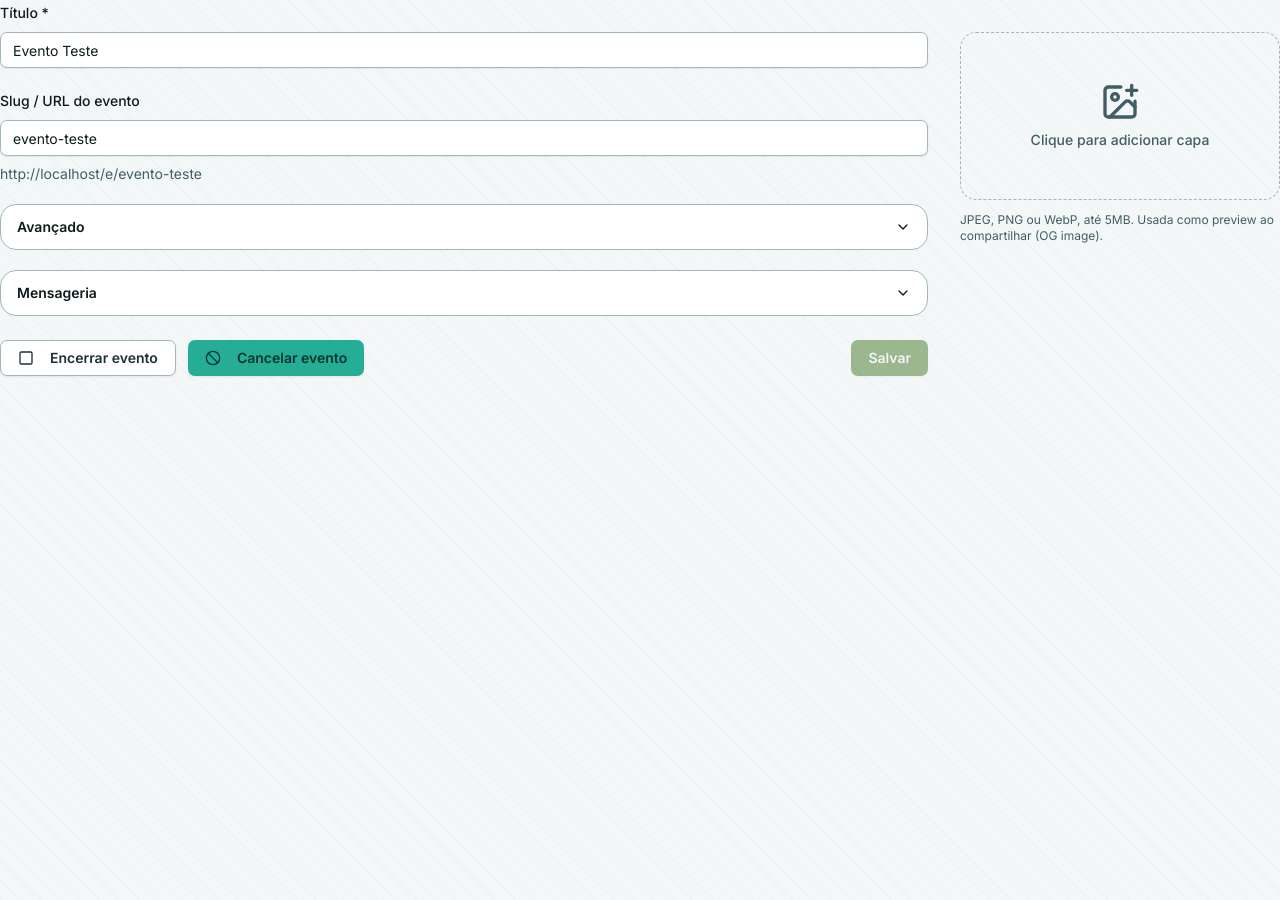
Test: Editar evento — slug › 409 na edição aparece no campo slug
Replace the text in the field labelled "Slug / URL do evento" with "ja-usado". click: (464, 138)
box: [0, 120, 928, 156]
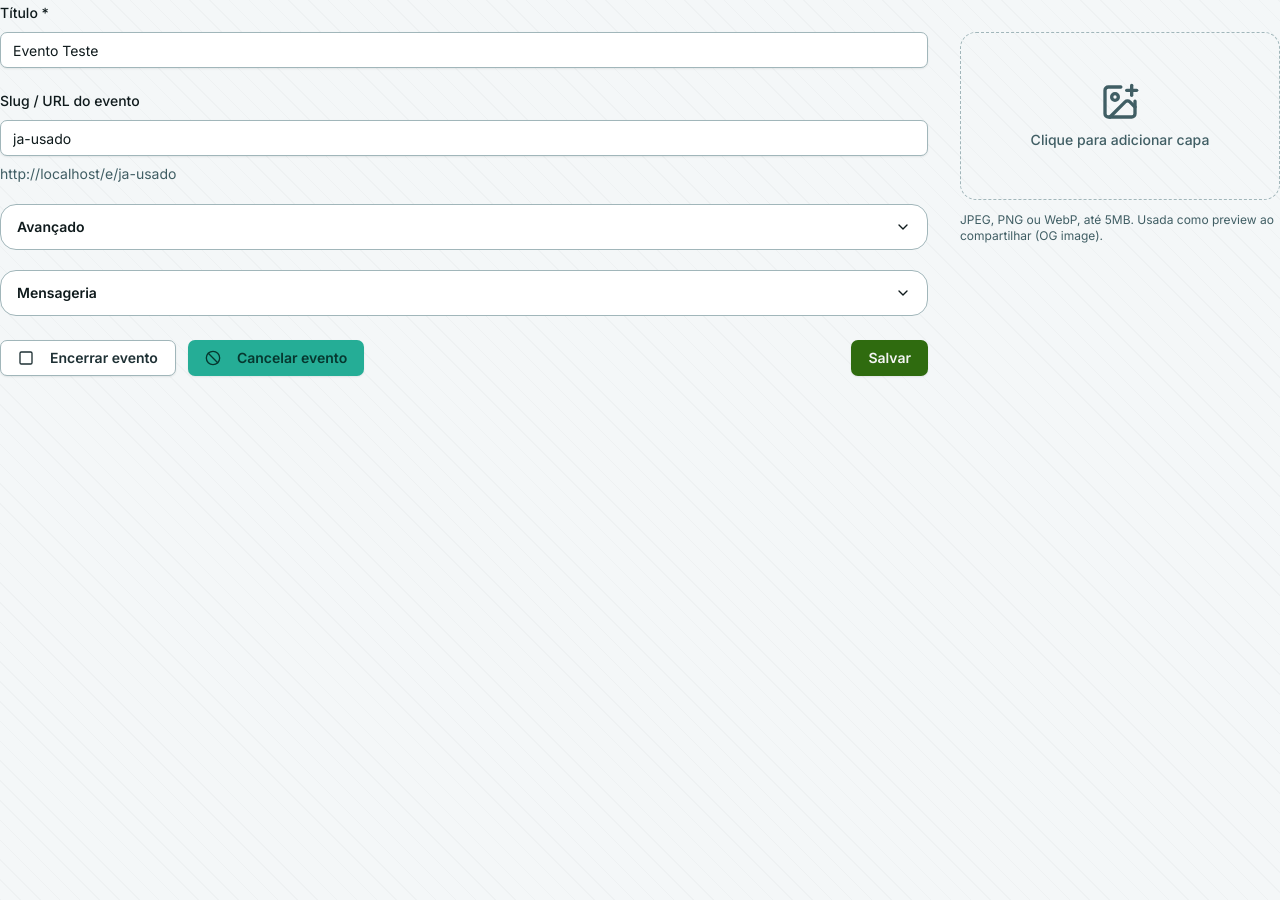
Click the button "Salvar". click: (890, 358)
box: [851, 340, 928, 376]
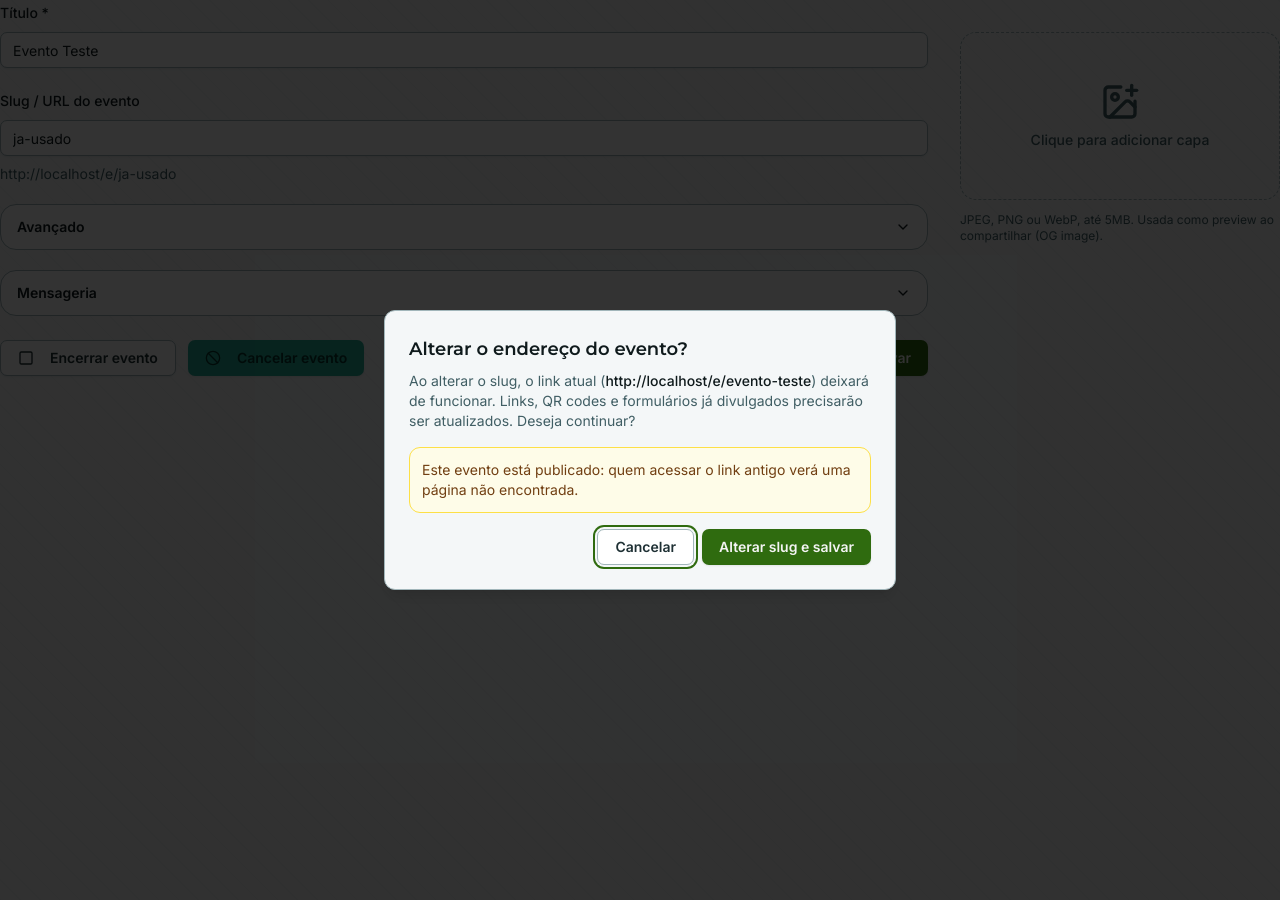
Click the button "Alterar slug e salvar". click: (787, 547)
box: [702, 529, 871, 565]
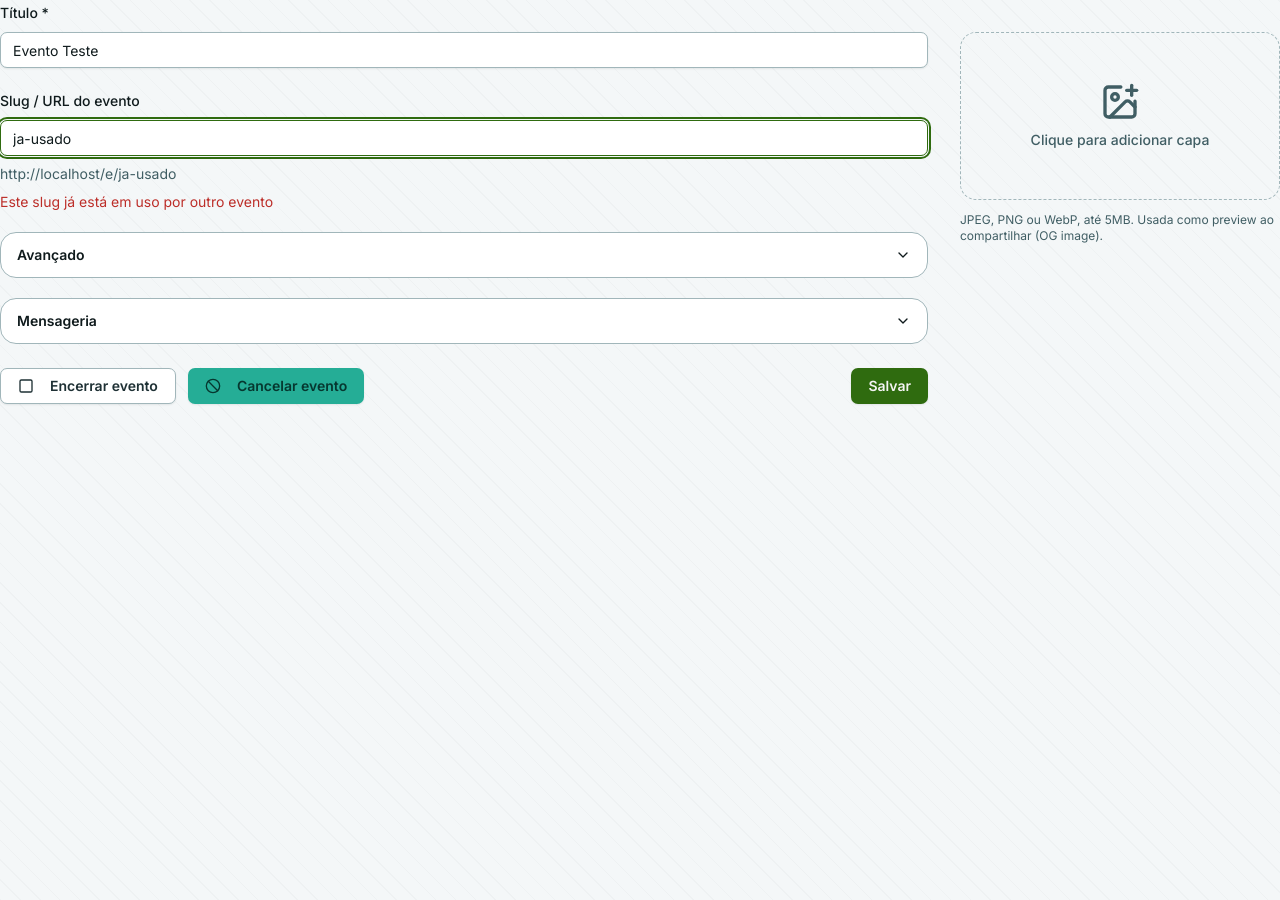
Now the text "Este slug já está em uso por outro evento" is shown, box [0, 193, 273, 210]
